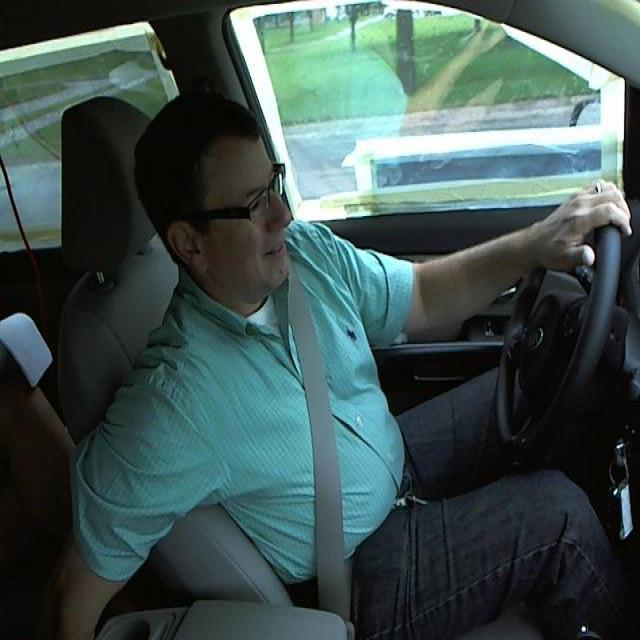seatbelt: (276, 278, 374, 630)
